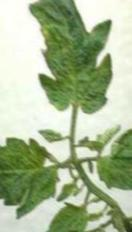Tomato leaf mosaic virus: (27, 1, 117, 117), (0, 136, 58, 217), (95, 112, 132, 195)
